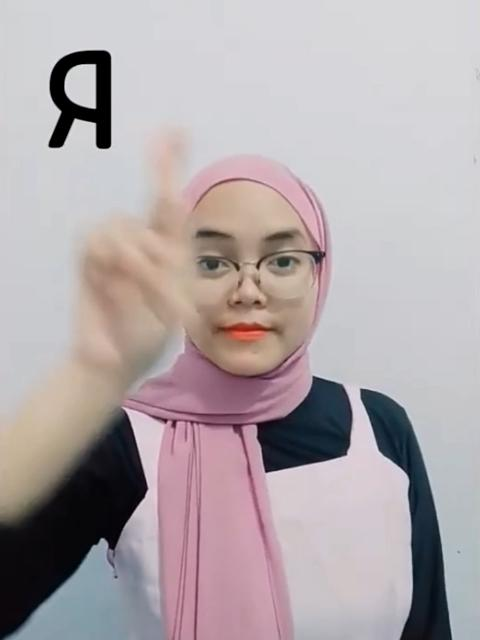R: (63, 122, 202, 388)
